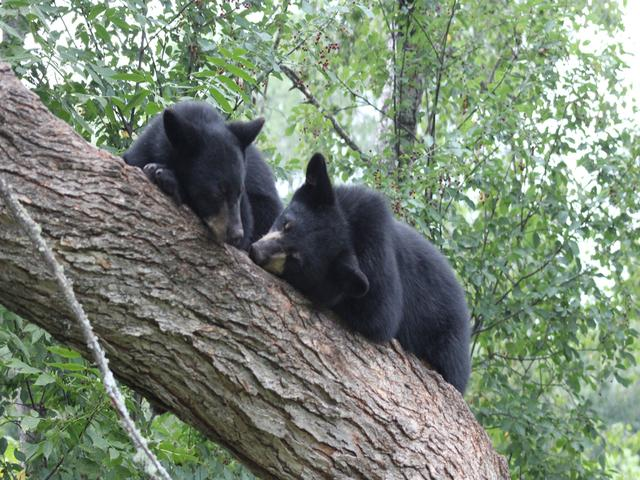Bear: (109, 78, 526, 375)
